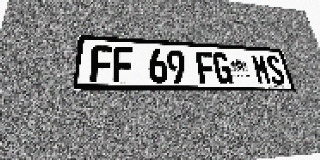6: (148, 48, 169, 83)
9: (166, 49, 187, 83)
F: (90, 45, 113, 82), (113, 46, 134, 83), (195, 51, 217, 84)
G: (212, 52, 233, 84)
M: (251, 54, 273, 85)
S: (265, 55, 287, 85)
